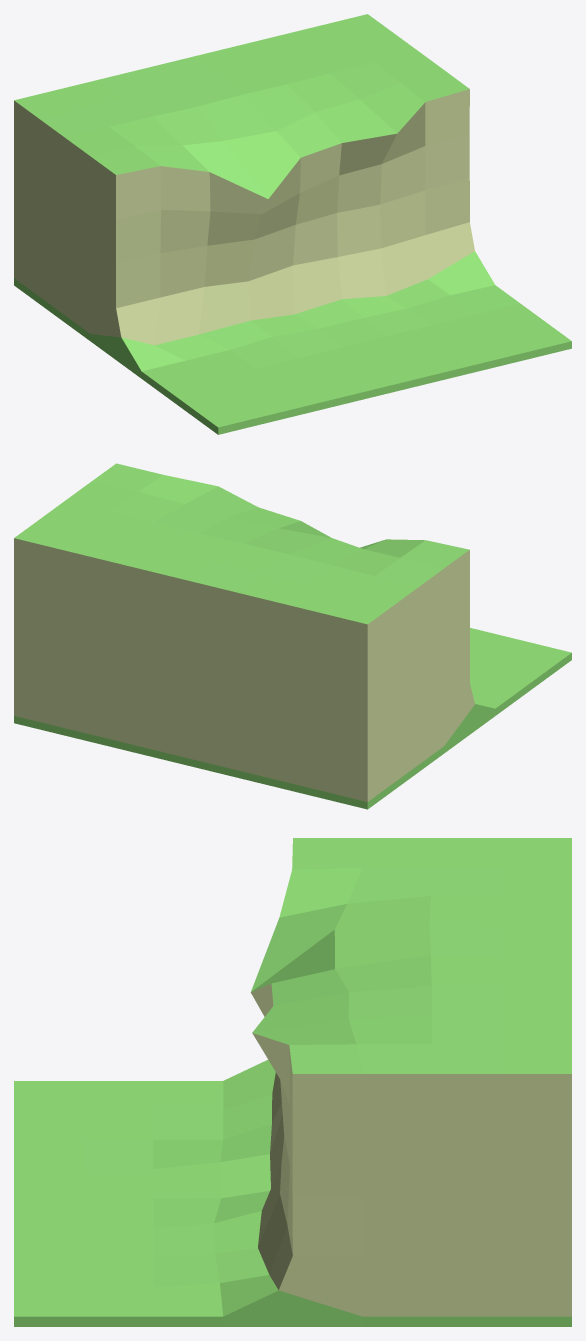
Rendered from wall_straight_1.glb.
3 views of the same model, one above another, from view 1: azimuth 30°, elevation 25°; view 2: azimuth 150°, elevation 25°; view 3: azimuth 270°, elevation 25° (orthographic). The views are drawn at different scales.
Visible parts, largest first — view 1: wall_straight_1; view 2: wall_straight_1; view 3: wall_straight_1.
Boxes of the visible parts, x1,y1,x2,y2 form: wall_straight_1: (14, 14, 571, 434); wall_straight_1: (14, 463, 571, 809); wall_straight_1: (14, 838, 571, 1326).
Size of the model in its own units: 2 by 1 by 2.
